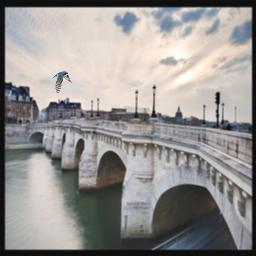Swallow: (52, 71, 72, 93)
